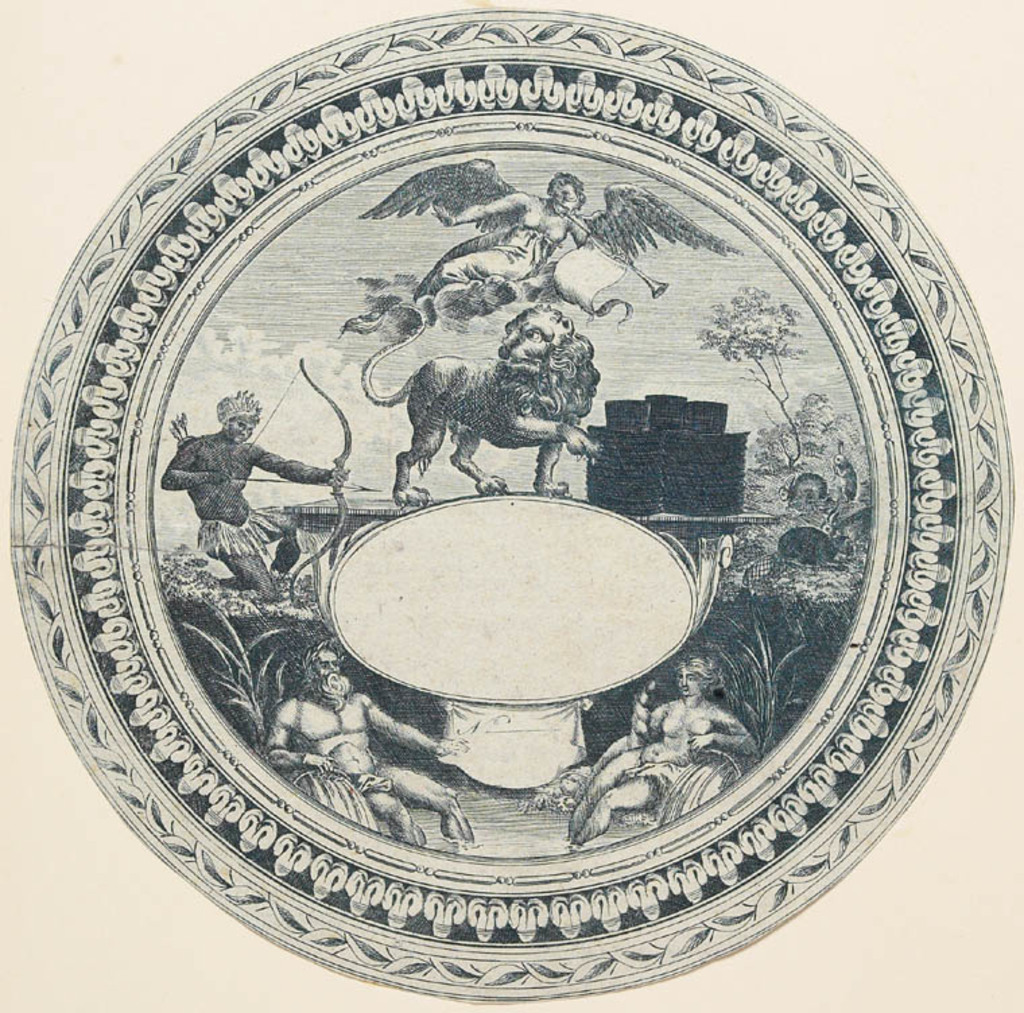plate: (8, 13, 1013, 1001)
